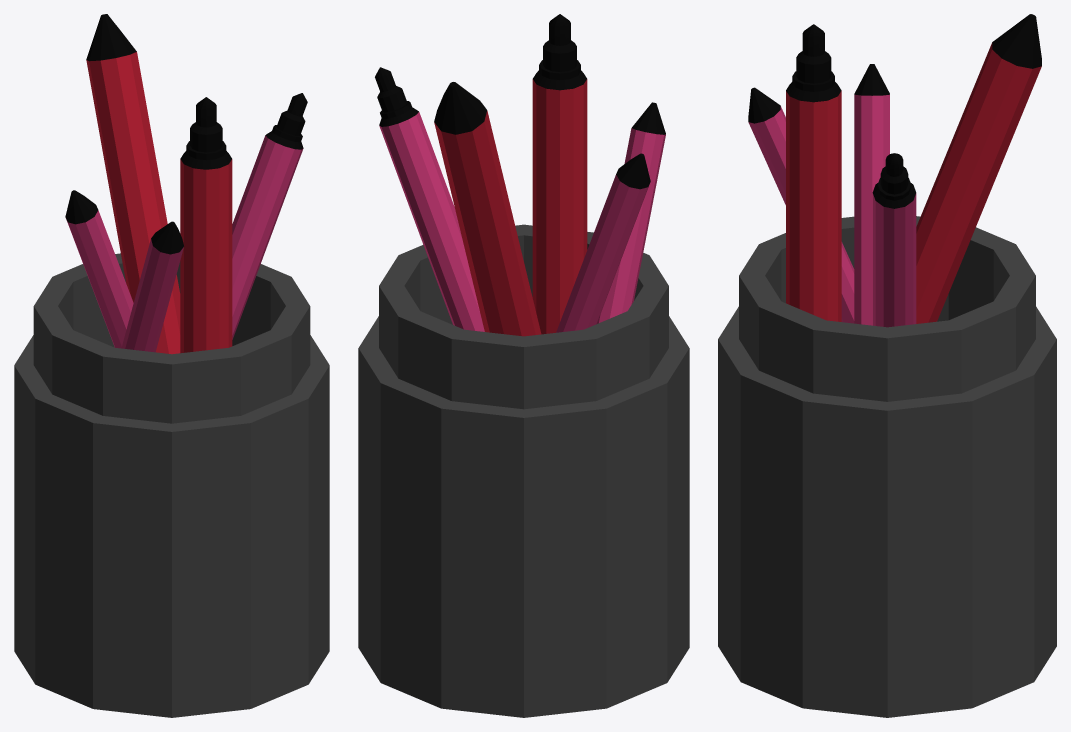
The model's file is Pencil_box1.fbx.
3 renders of one model, left to right at view 1: azimuth 30°, elevation 25°; view 2: azimuth 150°, elevation 25°; view 3: azimuth 270°, elevation 25°, orthographic. The views are drawn at different scales.
Visible parts, largest first — view 1: pencil_box; view 2: pencil_box; view 3: pencil_box.
Boxes of the visible parts, x1=… form: pencil_box: x1=14, y1=14, x2=329, y2=717; pencil_box: x1=358, y1=14, x2=689, y2=717; pencil_box: x1=718, y1=14, x2=1056, y2=717.
Bounding box in the file's own units: 16.01 × 32.77 × 15.94.
1 material, 1 textured.
